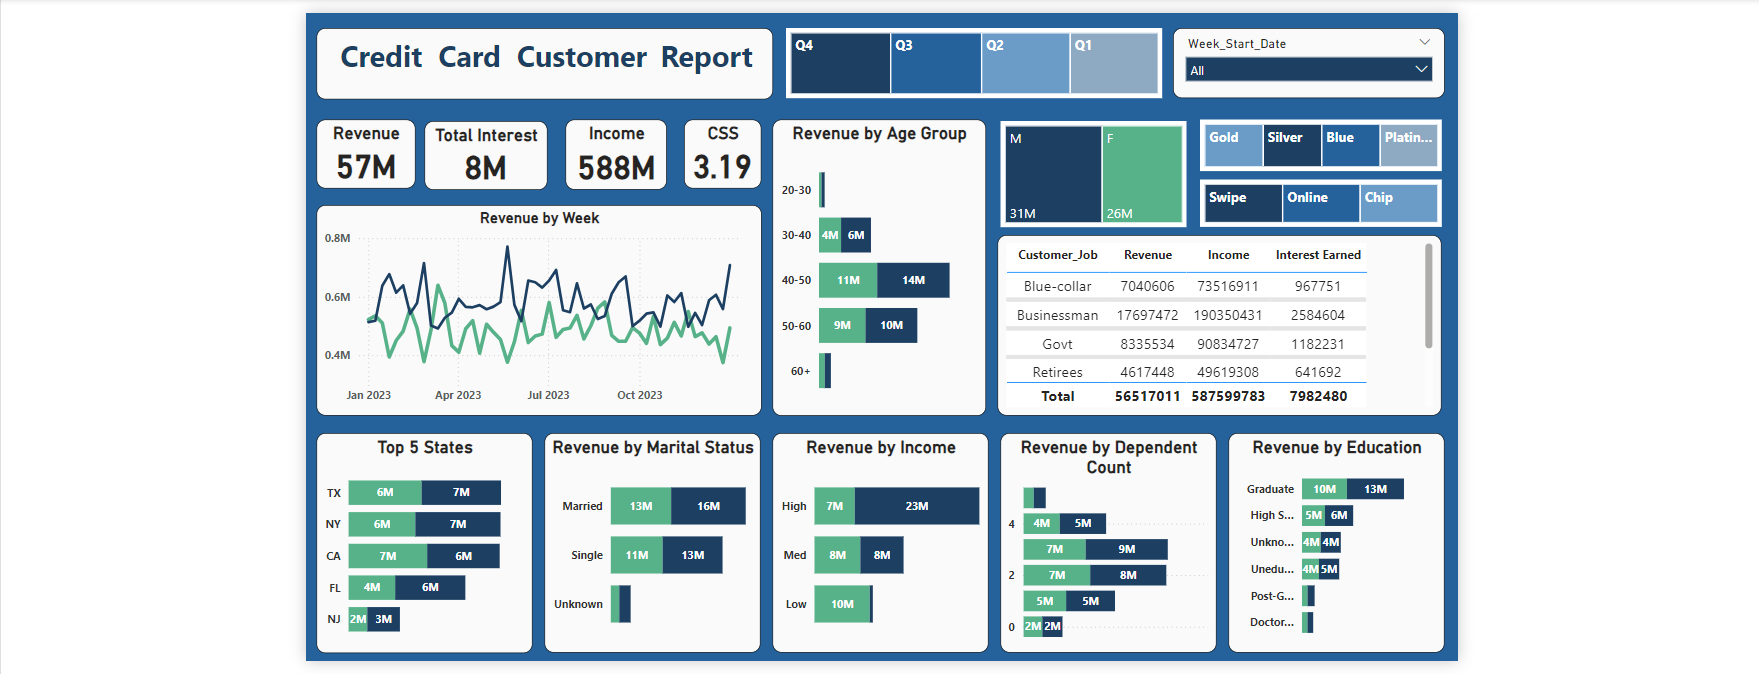

Layout of this report page (visuals, bound fields, positions):
{"tool":"powerbi","page":{"name":"CC Customer","canvas":[1280,720],"ordinal":1},"visuals":[{"type":"textbox","box":[11.1,15.9,507.4,79.5],"z":0},{"type":"barChart","title":"Revenue by Income","fields":{"Y":["Sum(credit_card.Revenue)"],"Category":["customer.Income_Group"],"Series":["customer.Gender"]},"box":[518.5,467,240.2,244],"z":1000},{"type":"tableEx","fields":{"Values":["customer.Customer_Job","Sum(credit_card.Revenue)","Sum(customer.Income)","Sum(credit_card.Interest_Earned)"]},"box":[768.3,246.5,493.1,200.4],"z":2000},{"type":"card","title":"Revenue","fields":{"Values":["Sum(credit_card.Revenue)"]},"box":[11.1,117.7,109.8,76.3],"z":3000},{"type":"card","title":"Income","fields":{"Values":["Sum(customer.Income)"]},"box":[287.9,117.7,112.9,77.9],"z":4000},{"type":"card","title":"Total Interest","fields":{"Values":["Sum(credit_card.Interest_Earned)"]},"box":[132,119.3,136.8,76.3],"z":5000},{"type":"card","title":"CSS","fields":{"Values":["Avg(customer.Cust_Satisfaction_Score)"]},"box":[419.9,117.7,85.9,76.3],"z":6000},{"type":"treemap","fields":{"Values":["Avg(credit_card.Client_Num)"],"Group":["credit_card.Qtr"]},"box":[532.9,17.5,418.3,77.9],"z":7000},{"type":"slicer","fields":{"Values":["credit_card.Week_Start_Date"]},"box":[963.9,17.5,302.2,77.9],"z":8000},{"type":"treemap","fields":{"Values":["Avg(credit_card.Client_Num)"],"Group":["credit_card.Card_Category"]},"box":[992.5,117.7,268.8,57.3],"z":9000},{"type":"lineChart","title":"Revenue by Week","fields":{"Y":["Sum(credit_card.Revenue)"],"Series":["customer.Gender"],"Category":["credit_card.Week_Start_Date.Variation.Date Hierarchy.Year","credit_card.Week_Start_Date.Variation.Date Hierarchy.Month","credit_card.Week_Start_Date.Variation.Date Hierarchy.Day"]},"box":[11.1,213.1,494.7,233.8],"z":10000},{"type":"treemap","fields":{"Group":["customer.Gender"],"Values":["Sum(credit_card.Revenue)"]},"box":[771.4,119.3,206.8,117.7],"z":11000},{"type":"barChart","title":"Revenue by Age Group","fields":{"Y":["Sum(credit_card.Revenue)"],"Category":["customer.Age_Group"],"Series":["customer.Gender"]},"box":[518.5,117.7,237,329.3],"z":12000},{"type":"barChart","title":"Revenue by Education ","fields":{"Y":["Sum(credit_card.Revenue)"],"Category":["customer.Education_Level"],"Series":["customer.Gender"]},"box":[1024.4,467,240.2,244],"z":13000},{"type":"barChart","title":"Revenue by  Dependent Count","fields":{"Y":["Sum(credit_card.Revenue)"],"Category":["customer.Dependent_Count"],"Series":["customer.Gender"]},"box":[771.4,467,240.2,244],"z":14000},{"type":"barChart","title":"Top 5 States","fields":{"Y":["Sum(credit_card.Revenue)"],"Category":["customer.state_cd"],"Series":["customer.Gender"]},"box":[11.1,466,240.2,245],"z":15000},{"type":"barChart","title":"Revenue by Marital Status","fields":{"Y":["Sum(credit_card.Revenue)"],"Category":["customer.Marital_Status"],"Series":["customer.Gender"]},"box":[265,467,240.2,244],"z":16000},{"type":"treemap","fields":{"Values":["Avg(credit_card.Client_Num)"],"Group":["credit_card.Use Chip"]},"box":[992.5,184.5,268.8,52.5],"z":17000}]}

Visuals, with their boxes in screenshot pixels (x1, y1, x2, y2):
textbox: [x1=299, y1=15, x2=767, y2=88]
"Revenue by Income" barChart: [x1=767, y1=431, x2=988, y2=656]
tableEx - customer.Customer_Job x Sum(credit_card.Revenue): [x1=997, y1=227, x2=1452, y2=412]
"Revenue" card: [x1=299, y1=109, x2=400, y2=179]
"Income" card: [x1=554, y1=109, x2=658, y2=180]
"Total Interest" card: [x1=410, y1=110, x2=537, y2=180]
"CSS" card: [x1=676, y1=109, x2=755, y2=179]
treemap - Avg(credit_card.Client_Num) x credit_card.Qtr: [x1=780, y1=16, x2=1166, y2=88]
slicer - credit_card.Week_Start_Date: [x1=1178, y1=16, x2=1456, y2=88]
treemap - Avg(credit_card.Client_Num) x credit_card.Card_Category: [x1=1204, y1=109, x2=1452, y2=161]
"Revenue by Week" lineChart: [x1=299, y1=197, x2=755, y2=412]
treemap - customer.Gender x Sum(credit_card.Revenue): [x1=1000, y1=110, x2=1191, y2=219]
"Revenue by Age Group" barChart: [x1=767, y1=109, x2=985, y2=412]
"Revenue by Education " barChart: [x1=1233, y1=431, x2=1455, y2=656]
"Revenue by  Dependent Count" barChart: [x1=1000, y1=431, x2=1222, y2=656]
"Top 5 States" barChart: [x1=299, y1=430, x2=520, y2=656]
"Revenue by Marital Status" barChart: [x1=533, y1=431, x2=755, y2=656]
treemap - Avg(credit_card.Client_Num) x credit_card.Use Chip: [x1=1204, y1=170, x2=1452, y2=219]
